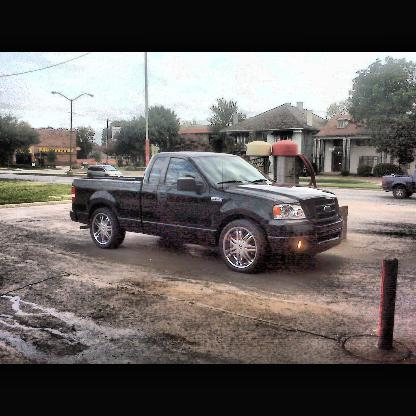Ford F-150 Regular Cab 2007: (72, 152, 345, 275)
